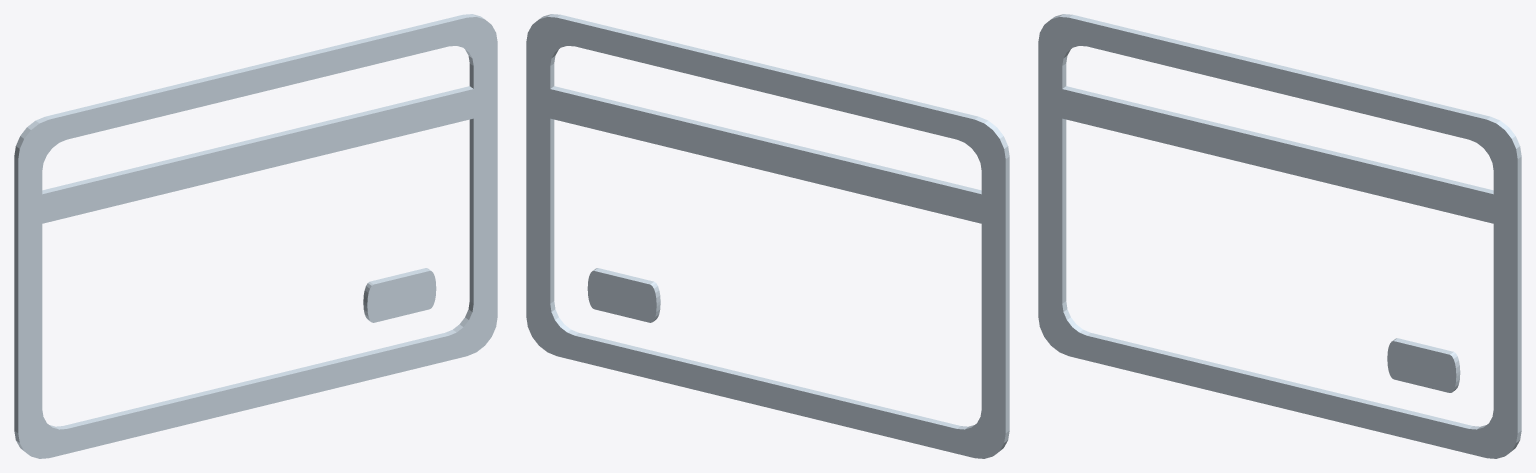
Rendered from Payment_Card_3D_Icon.fbx.
3 views of the same model, side by side, from view 1: azimuth 30°, elevation 25°; view 2: azimuth 150°, elevation 25°; view 3: azimuth 330°, elevation 25° (orthographic).
Visible parts, largest first — view 1: Payment_Card_3D_Icon_01; view 2: Payment_Card_3D_Icon_01; view 3: Payment_Card_3D_Icon_01.
Boxes of the visible parts, left/top/right/bottom form: Payment_Card_3D_Icon_01: left=14, top=14, right=497, bottom=458; Payment_Card_3D_Icon_01: left=526, top=14, right=1009, bottom=458; Payment_Card_3D_Icon_01: left=1038, top=14, right=1521, bottom=458.
Size of the model in its own units: 138 by 93.31 by 2.
